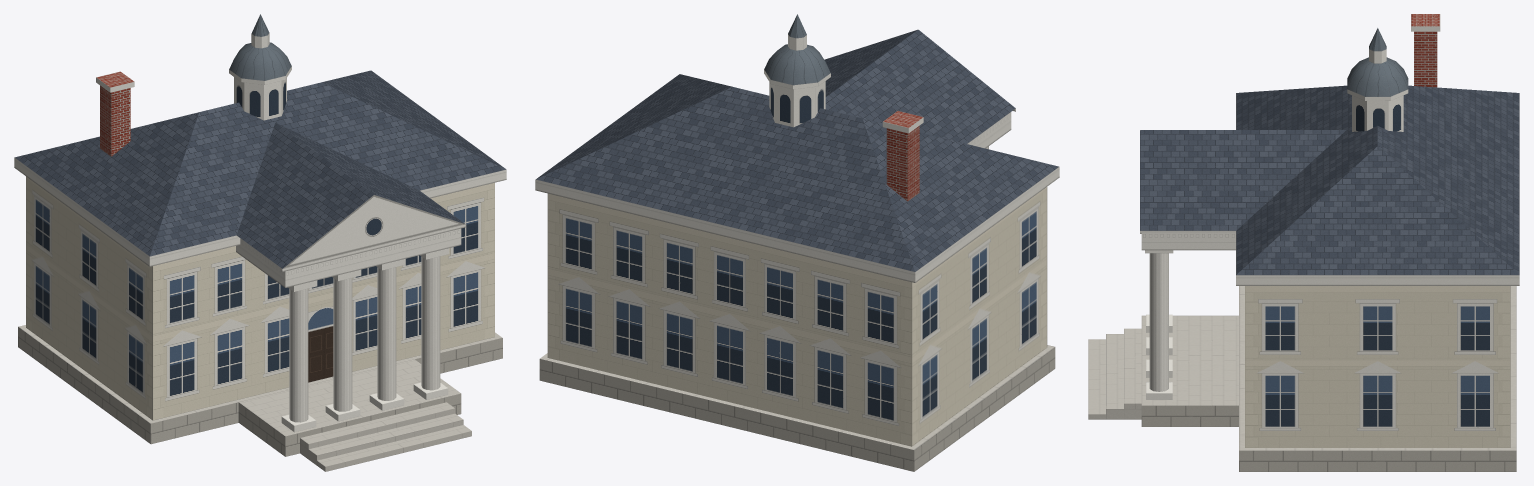
Rendered from whitehouse.glb.
The picture shows the model from 3 angles, left to right: view 1: azimuth 30°, elevation 25°; view 2: azimuth 150°, elevation 25°; view 3: azimuth 270°, elevation 25°; orthographic projection. The views are drawn at different scales.
Visible parts, largest first — view 1: WhiteHouse; view 2: WhiteHouse; view 3: WhiteHouse.
Part boxes in pixels (x1,y1,x2,y2): WhiteHouse: (14,14,506,471); WhiteHouse: (535,14,1059,471); WhiteHouse: (1088,14,1519,471).
Size of the model in its own units: 14.6 by 13.25 by 14.6.
Materials: 1 (1 with a texture image).
